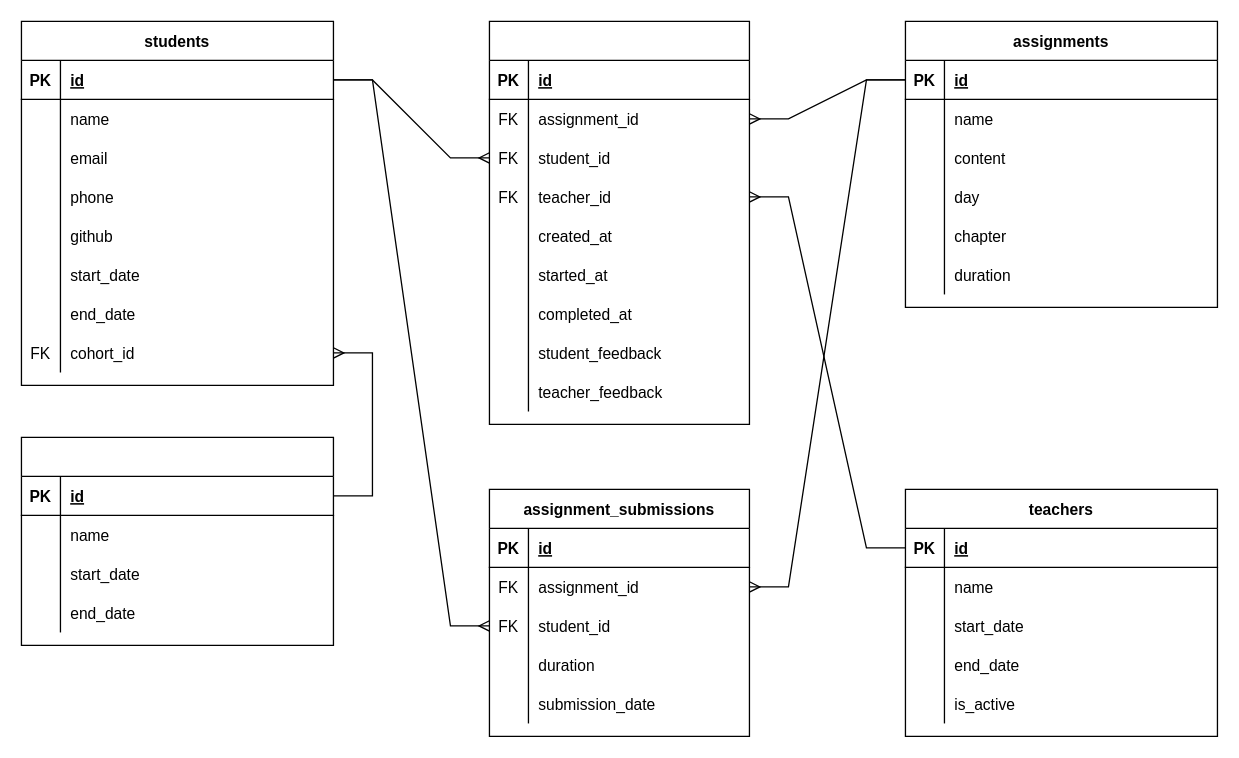
This 1239x758 diagram has some shape labels left out. The box of each missing label's shape, as (x1, y1, x2, y2) in pixels:
assistance_requests: (488, 20, 749, 424)
cohorts: (20, 436, 333, 645)
